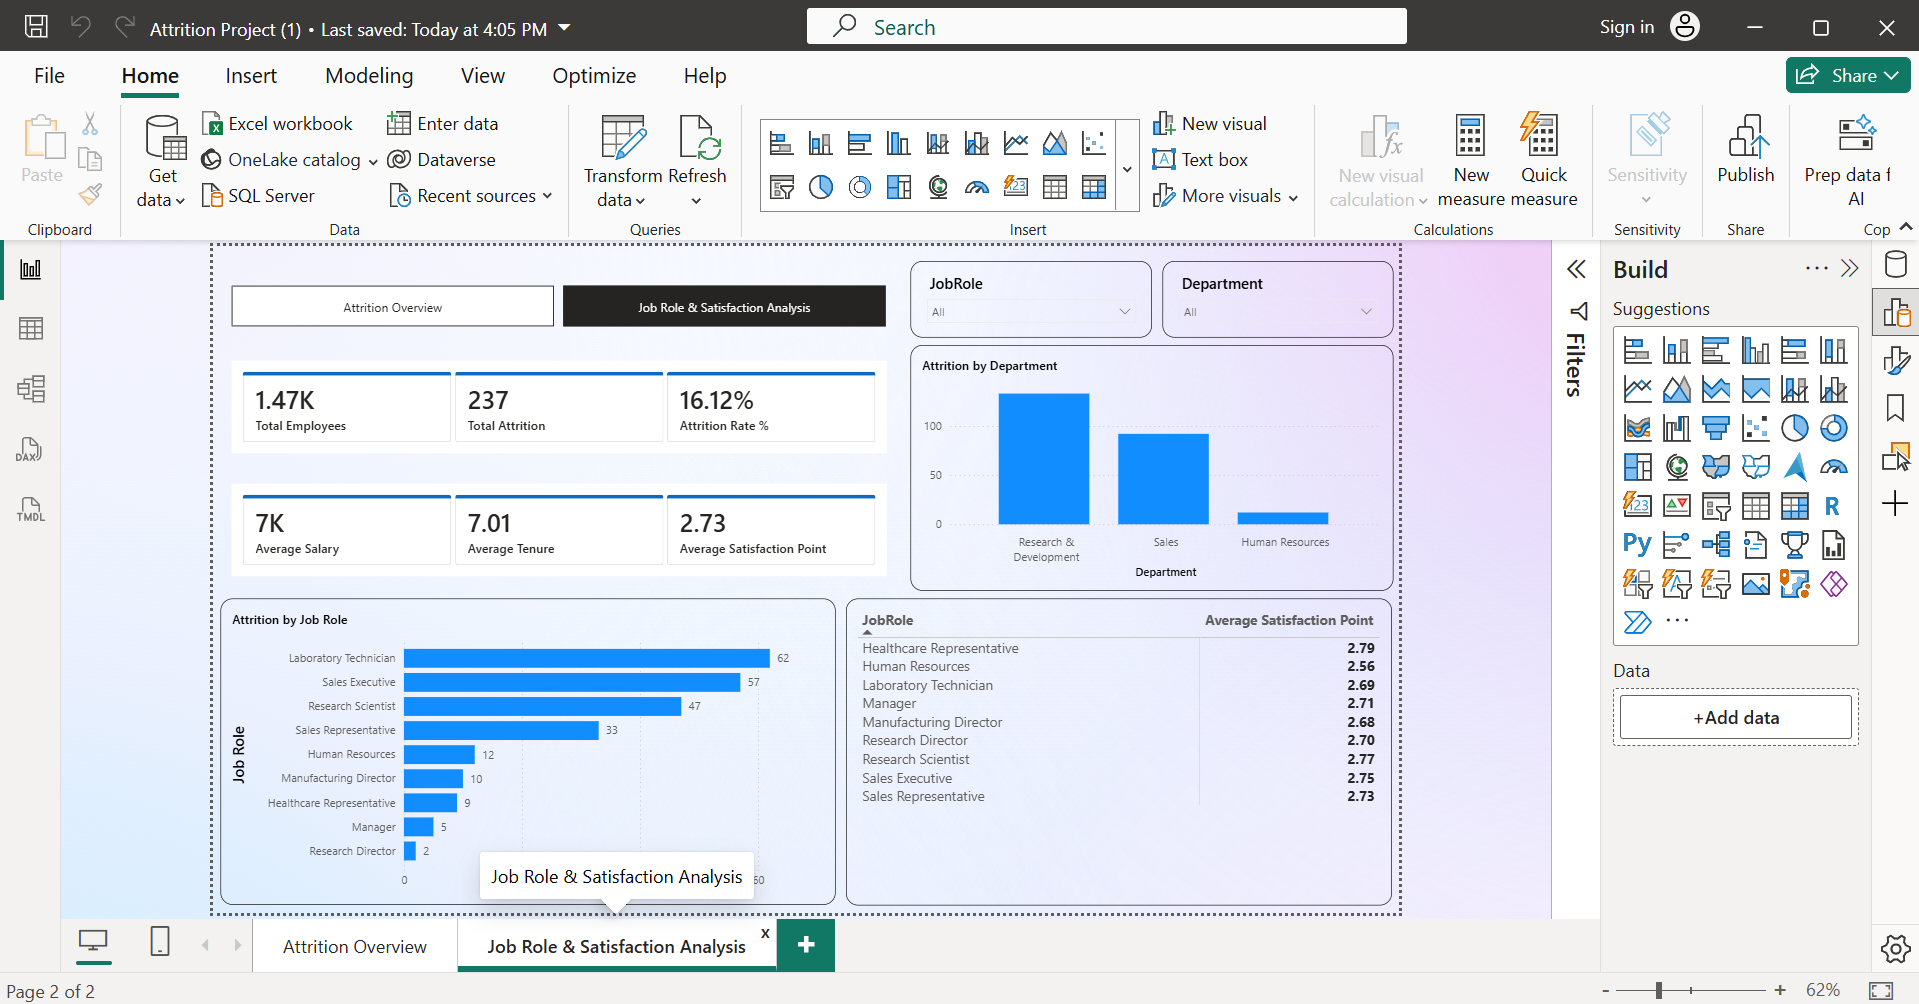

This screenshot's page, from the dashboard's own definition file:
{"tool":"powerbi","page":{"name":"Job Role & Satisfaction Analysis","canvas":[1280,720],"ordinal":1},"visuals":[{"type":"cardVisual","fields":{"Data":["HR_Analytics.Total Employees","HR_Analytics.Total Attrition","HR_Analytics.Attrition Rate %"]},"box":[8.1,111.7,731.9,124.7],"z":0},{"type":"barChart","title":"Attrition by Job Role","fields":{"Category":["HR_Analytics.JobRole"],"Y":["HR_Analytics.Total Attrition"]},"box":[8.1,380.8,664.3,330.5],"z":1000},{"type":"columnChart","title":"Attrition by Department","fields":{"Category":["HR_Analytics.Department"],"Y":["HR_Analytics.Total Attrition"]},"box":[752.9,106.9,521.4,265.6],"z":2000},{"type":"pivotTable","title":"Job Role vs. Job Satisfaction Score","fields":{"Rows":["HR_Analytics.JobRole"],"Values":["HR_Analytics.Average Satisfaction Point"]},"box":[683.3,380.5,589.4,331],"z":3000},{"type":"slicer","fields":{"Values":["HR_Analytics.Department"]},"box":[1025.6,16.2,249.5,82.6],"z":4000},{"type":"slicer","fields":{"Values":["HR_Analytics.JobRole"]},"box":[753.4,16.2,260.9,82.6],"z":5000},{"type":"cardVisual","fields":{"Data":["HR_Analytics.Average Salary","HR_Analytics.Average Tenure","HR_Analytics.Average Satisfaction Point"]},"box":[8.1,244.5,731.9,124.7],"z":6000},{"type":"pageNavigator","box":[8.1,30.8,731.9,68],"z":7000}]}

Visuals, with their boxes on the page's 1280x720 design canvas (x1, y1, x2, y2). These are canvas units, not pixel positions in the 1919x1004 screenshot, which may show the page scaled, cropped or inside an application window:
cardVisual - HR_Analytics.Total Employees x HR_Analytics.Total Attrition: {"left": 8, "top": 112, "right": 740, "bottom": 236}
"Attrition by Job Role" barChart: {"left": 8, "top": 381, "right": 672, "bottom": 711}
"Attrition by Department" columnChart: {"left": 753, "top": 107, "right": 1274, "bottom": 372}
"Job Role vs. Job Satisfaction Score" pivotTable: {"left": 683, "top": 380, "right": 1273, "bottom": 712}
slicer - HR_Analytics.Department: {"left": 1026, "top": 16, "right": 1275, "bottom": 99}
slicer - HR_Analytics.JobRole: {"left": 753, "top": 16, "right": 1014, "bottom": 99}
cardVisual - HR_Analytics.Average Salary x HR_Analytics.Average Tenure: {"left": 8, "top": 244, "right": 740, "bottom": 369}
pageNavigator: {"left": 8, "top": 31, "right": 740, "bottom": 99}
